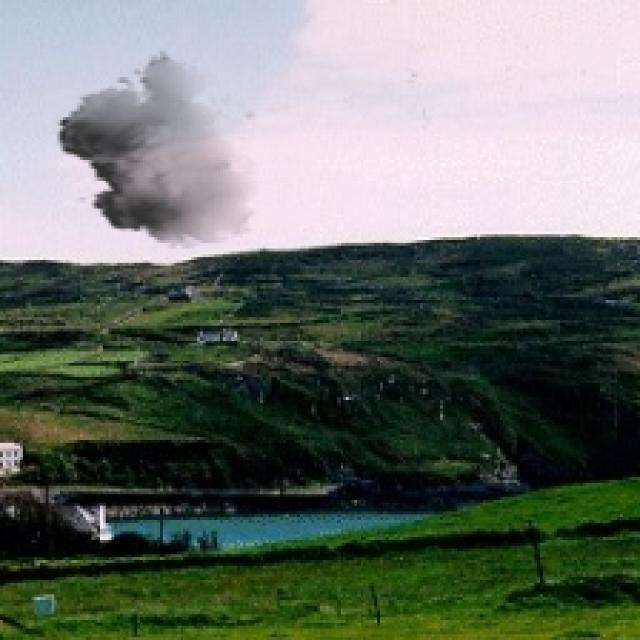smoke: (48, 48, 266, 248)
